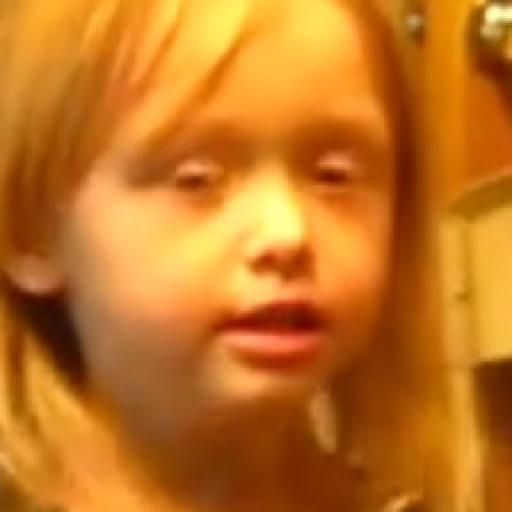Autism: (32, 30, 399, 432)
